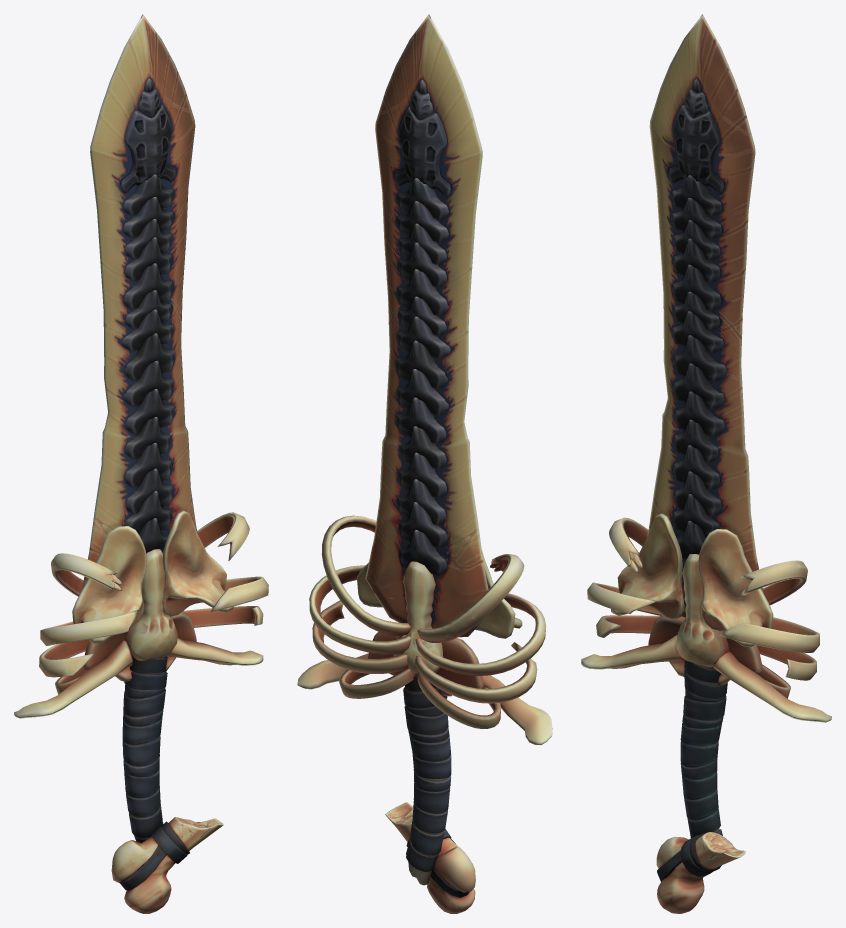
Rendered from sm_sword_83.gltf.
The picture shows the model from 3 angles, left to right: view 1: azimuth 30°, elevation 25°; view 2: azimuth 150°, elevation 25°; view 3: azimuth 330°, elevation 25°; orthographic projection. The views are drawn at different scales.
Parts seen in each view (by area): view 1: sm_sword_83; view 2: sm_sword_83; view 3: sm_sword_83.
Part boxes in pixels (x1=…): sm_sword_83: x1=14, y1=14, x2=268, y2=913; sm_sword_83: x1=297, y1=14, x2=552, y2=913; sm_sword_83: x1=581, y1=14, x2=831, y2=913.
Size of the model in its own units: 0.4274 by 1.48 by 0.1666.
Materials: 1 (1 with a texture image).
